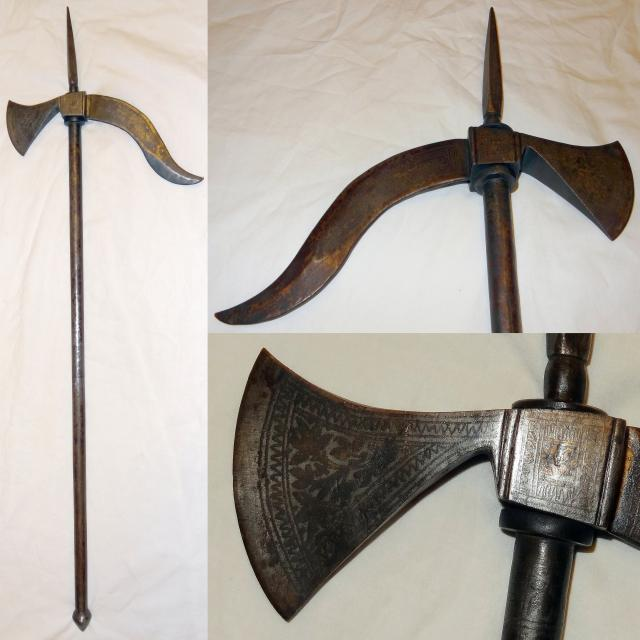Gun: (230, 323, 640, 640), (239, 16, 640, 330), (0, 11, 197, 640)
